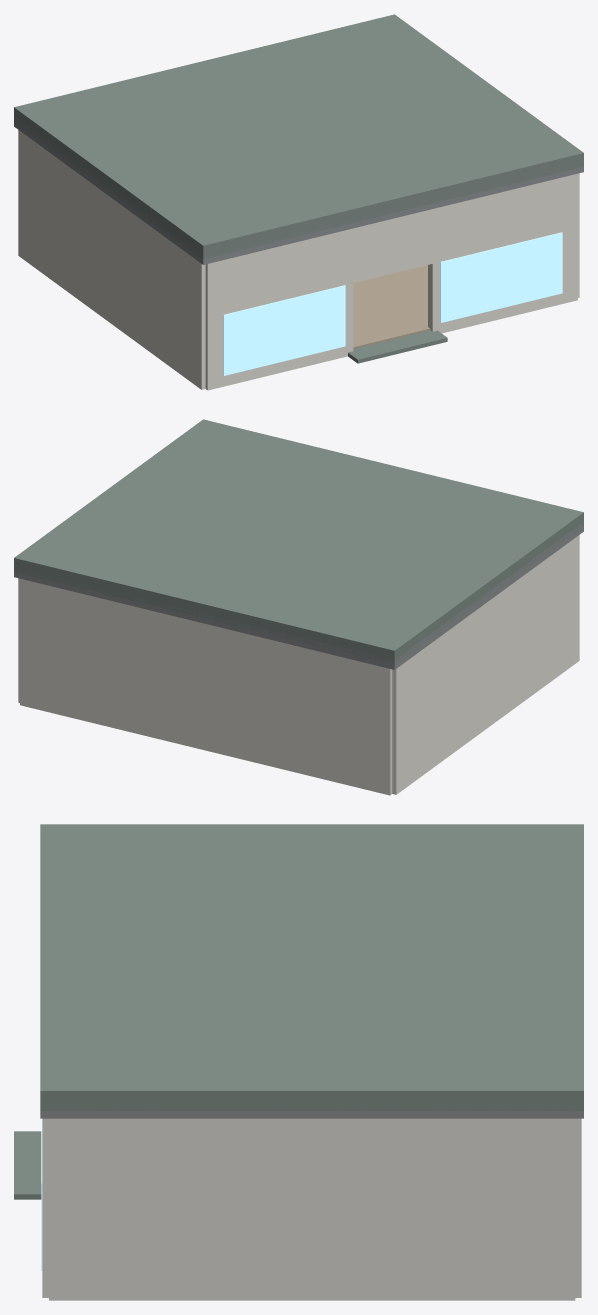
File: shop_shell.glb
The picture shows the model from 3 angles, top to bottom: view 1: azimuth 30°, elevation 25°; view 2: azimuth 150°, elevation 25°; view 3: azimuth 270°, elevation 25°; orthographic projection. The views are drawn at different scales.
Visible parts, largest first — view 1: shop_shell; view 2: shop_shell; view 3: shop_shell.
Boxes of the visible parts, box(x1,y1,x2,y2) form: shop_shell: box(14, 14, 583, 390); shop_shell: box(14, 419, 583, 795); shop_shell: box(14, 824, 583, 1300).
Bounding box in the file's own units: 14.4 × 5.3 × 13.
